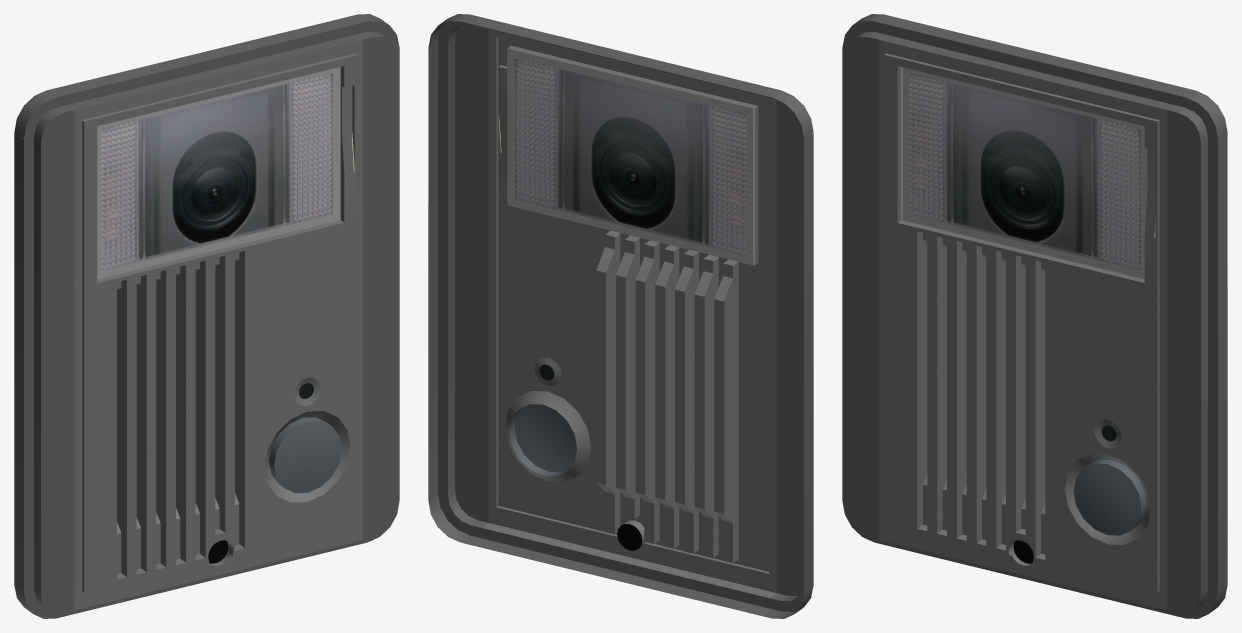
Rendered from DoorIntercomPack04_03.glb.
The picture shows the model from 3 angles, left to right: view 1: azimuth 30°, elevation 25°; view 2: azimuth 150°, elevation 25°; view 3: azimuth 330°, elevation 25°; orthographic projection.
Visible parts, largest first — view 1: Plane_024; view 2: Plane_024; view 3: Plane_024.
Part boxes in pixels (x1,y1,x2,y2): Plane_024: (14,14,399,618); Plane_024: (428,14,813,618); Plane_024: (842,14,1227,618).
Size of the model in its own units: 0.2658 by 0.3525 by 0.0256.
Materials: 1 (1 with a texture image).
